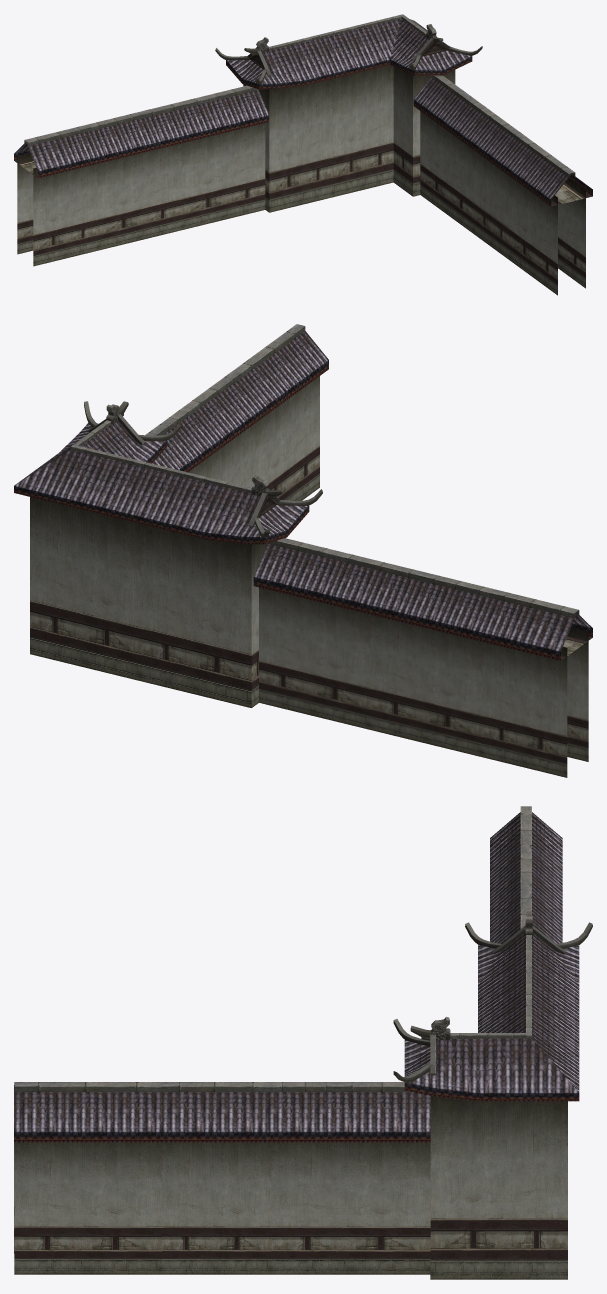
Rendered from Maincity12_Building_qiang01.FBX.
3 views of the same model, one above another, from view 1: azimuth 30°, elevation 25°; view 2: azimuth 150°, elevation 25°; view 3: azimuth 270°, elevation 25° (orthographic). The views are drawn at different scales.
Visible parts, largest first — view 1: Maincity12_Building_qiang01; view 2: Maincity12_Building_qiang01; view 3: Maincity12_Building_qiang01.
Boxes of the visible parts, <box> form: Maincity12_Building_qiang01: <box>14,14,592,295</box>; Maincity12_Building_qiang01: <box>14,324,592,777</box>; Maincity12_Building_qiang01: <box>14,806,592,1279</box>.
Size of the model in its own units: 1962 by 736 by 1568.
